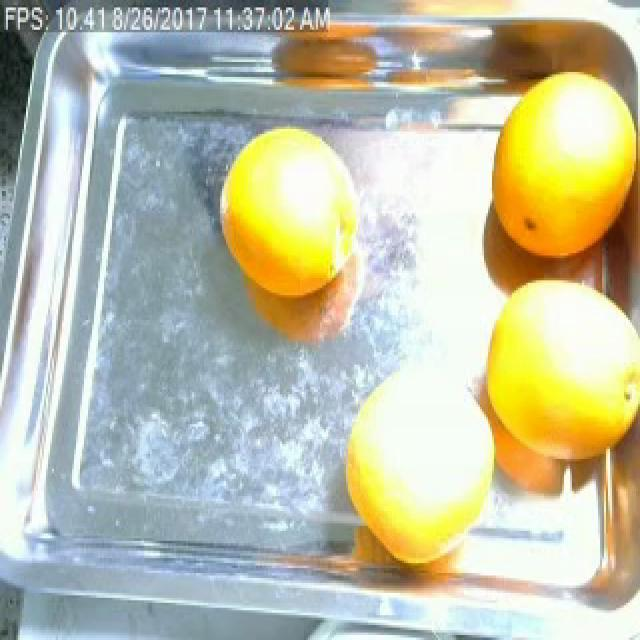Fruit: (208, 111, 382, 308), (588, 183, 640, 350)
